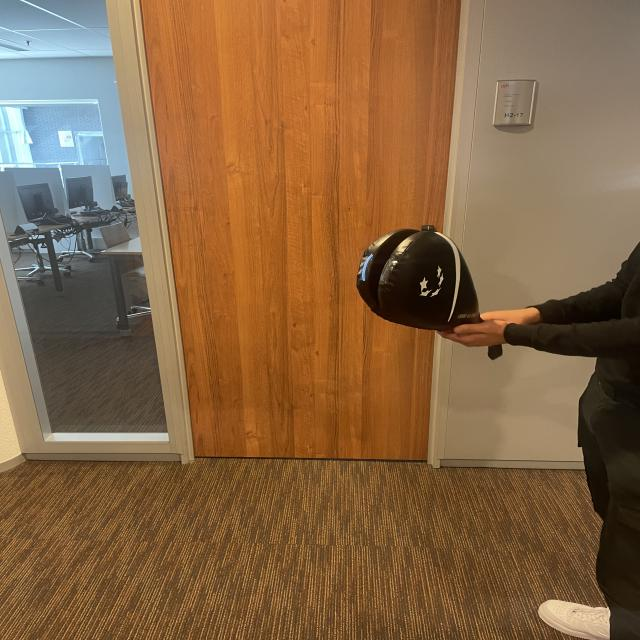paddle: (365, 229, 478, 330)
trigger: (354, 251, 374, 285)
